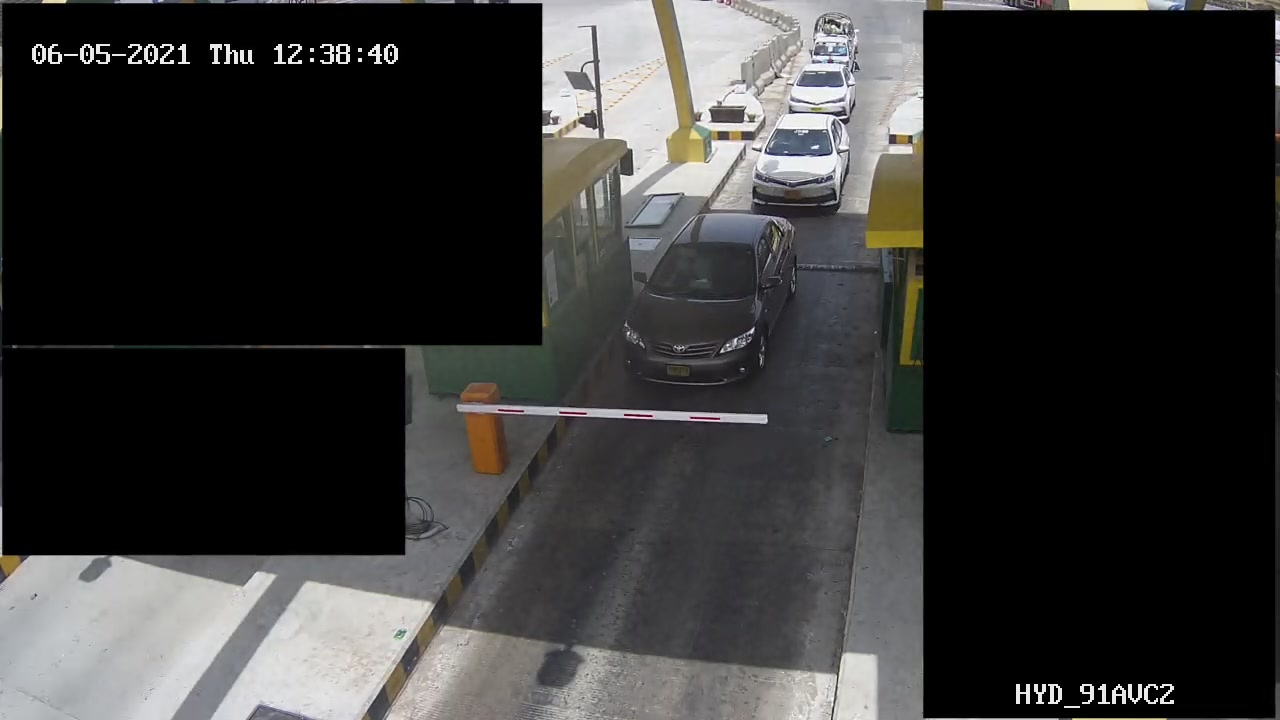F1: (624, 204, 799, 390), (749, 108, 853, 211)
